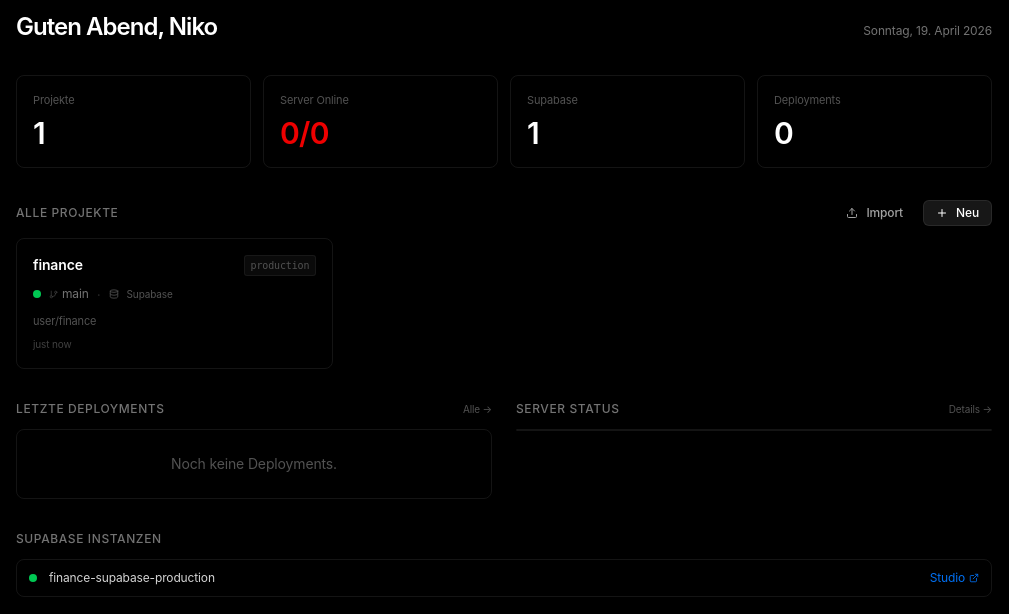
Test case: Overview page › opens ImportModal when Import button is clicked
Click the button "Import": (875, 212) [834, 200, 915, 226]
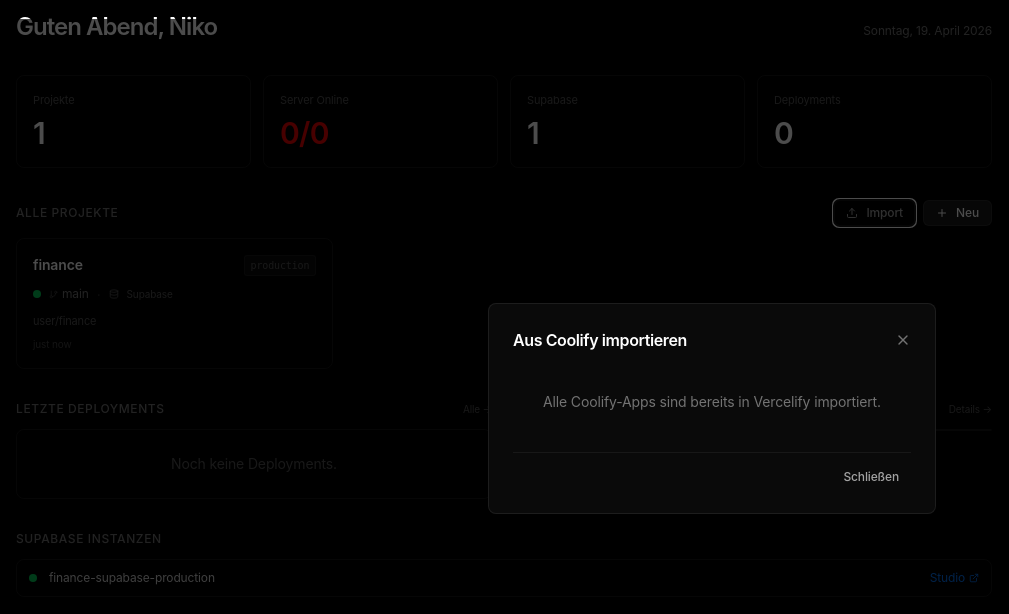
Check: the heading "Aus Coolify importieren" is shown, box [513, 328, 687, 352]
